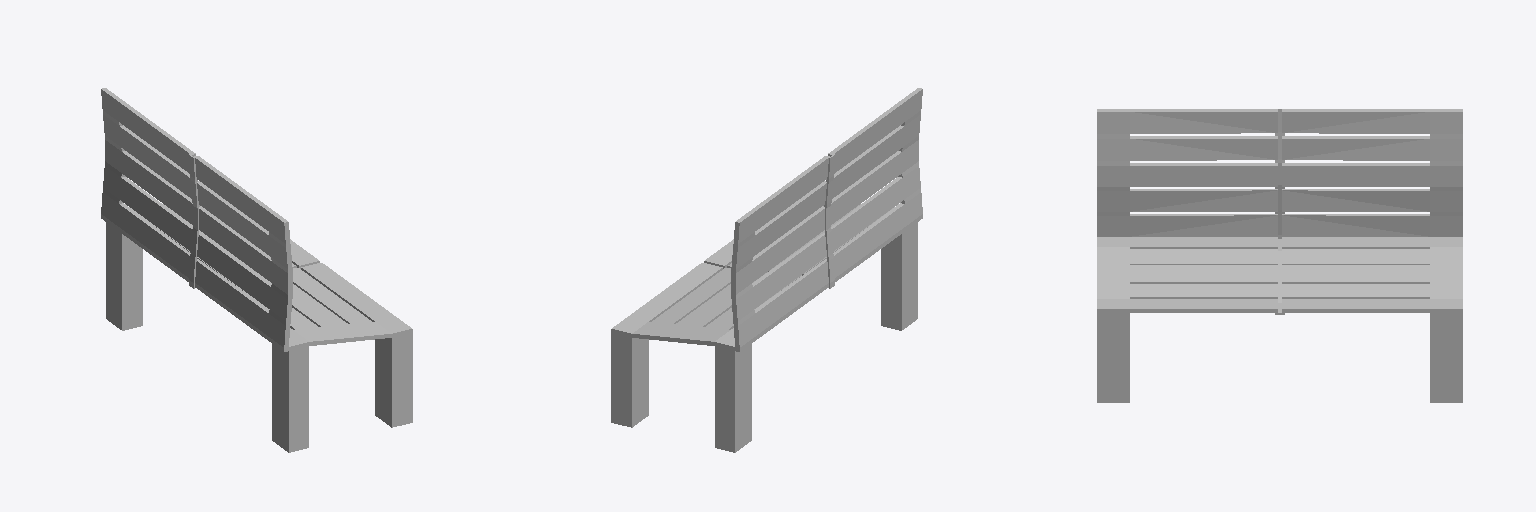
The model's file is bench.obj.
The picture shows the model from 3 angles: view 1: azimuth 30°, elevation 25°; view 2: azimuth 150°, elevation 25°; view 3: azimuth 270°, elevation 25°; orthographic projection.
Visible parts, largest first — view 1: Cube.001; view 2: Cube.001; view 3: Cube.001.
Part boxes in pixels (x1,y1,x2,y2): Cube.001: (101, 88, 412, 452); Cube.001: (611, 88, 922, 452); Cube.001: (1097, 109, 1462, 402).
Size of the model in its own units: 0.5821 by 0.9904 by 1.42.